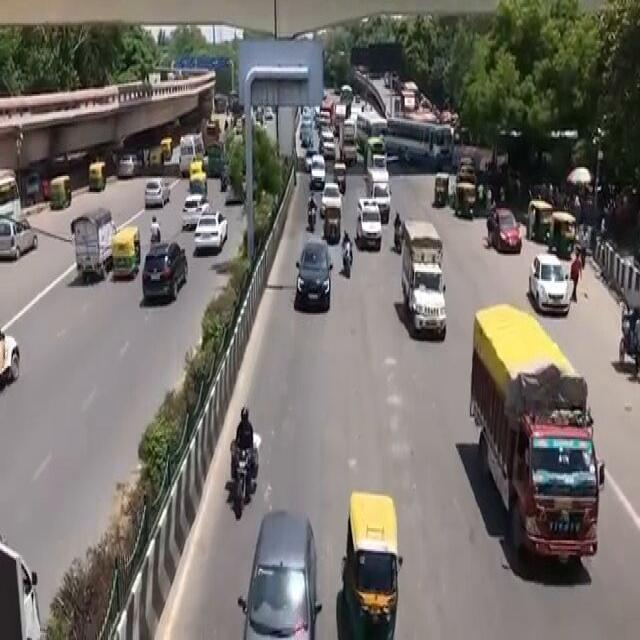three_wheeler: (332, 478, 408, 638)
